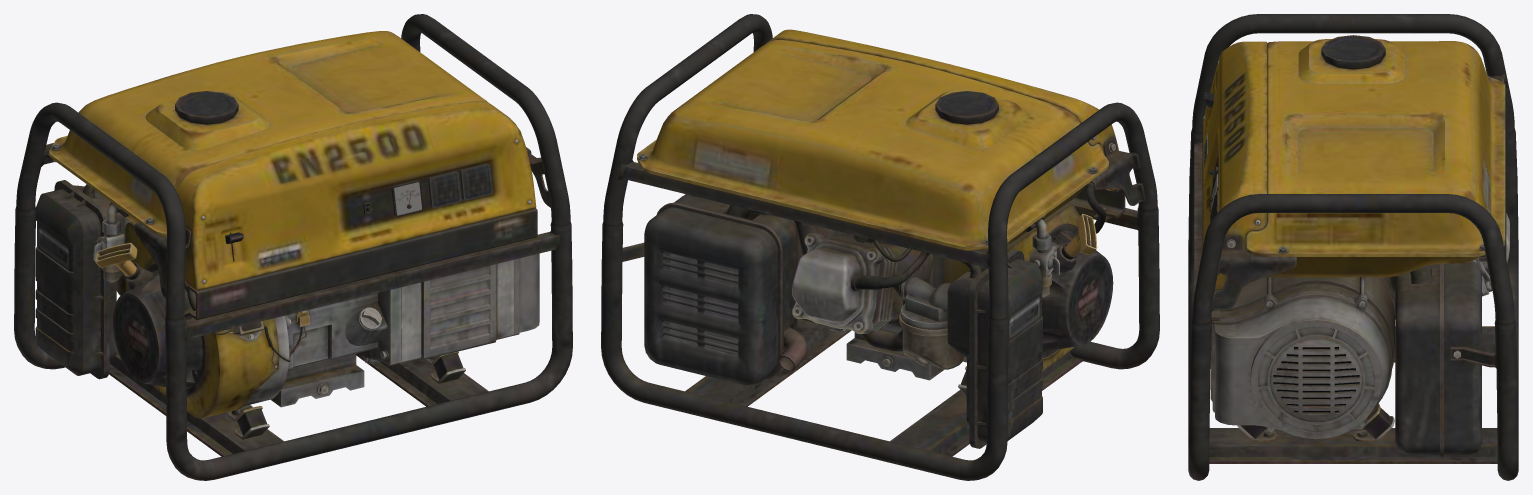
File: portable_generator.glb
The picture shows the model from 3 angles, left to right: view 1: azimuth 30°, elevation 25°; view 2: azimuth 150°, elevation 25°; view 3: azimuth 270°, elevation 25°; orthographic projection.
Parts seen in each view (by area): view 1: portable_generator; view 2: portable_generator; view 3: portable_generator.
Boxes of the visible parts, x1,y1,x2,y2 form: portable_generator: [14, 14, 572, 480]; portable_generator: [601, 14, 1159, 480]; portable_generator: [1188, 14, 1518, 480].
Bounding box in the file's own units: 0.8183 × 0.5769 × 0.564.
2 materials, 2 textured.
